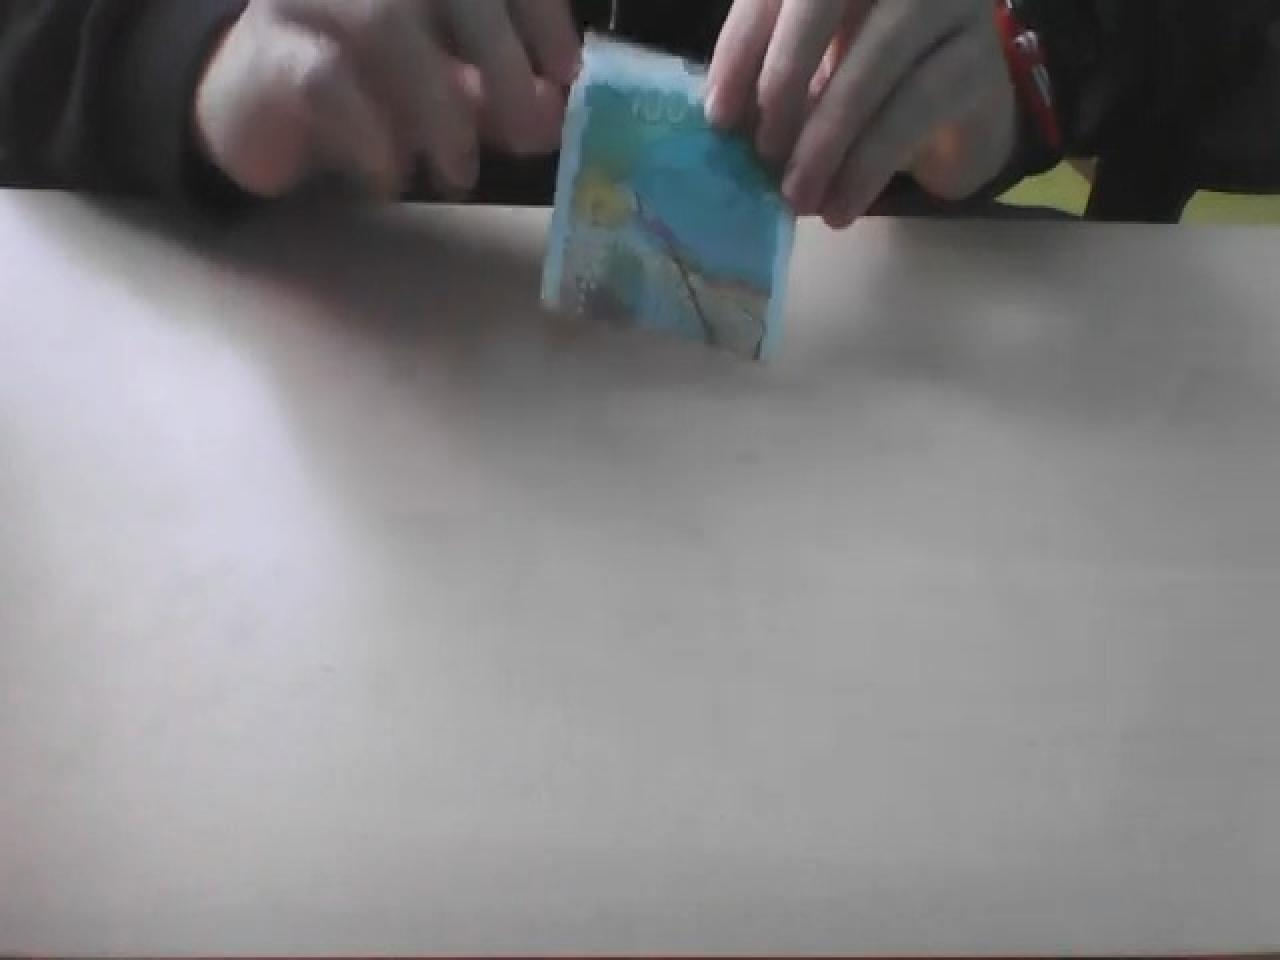100leva: (536, 29, 794, 363)
